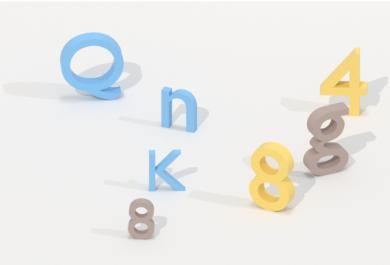8: (246, 138, 297, 215), (124, 194, 158, 244)
K: (146, 146, 188, 197)
Q: (56, 29, 127, 105)
g: (299, 97, 352, 179), (318, 43, 373, 118)
n: (157, 83, 201, 138)
